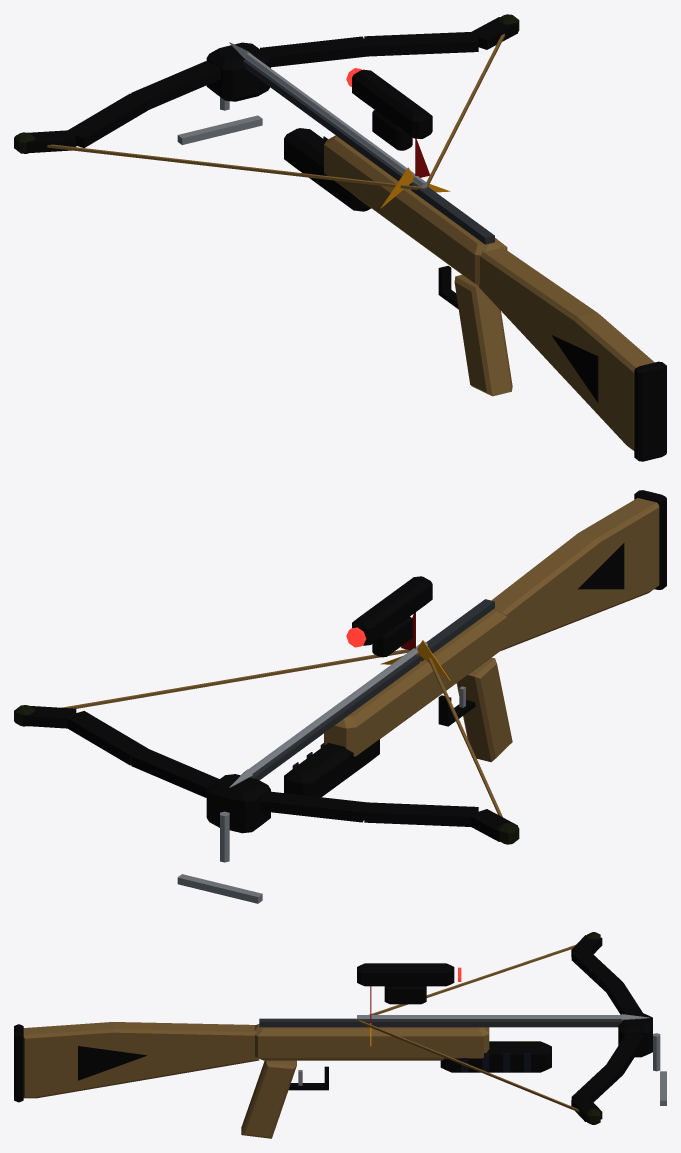
File: SM_Wep_Crossbow.glb
3 views of the same model, one above another, from view 1: azimuth 30°, elevation 25°; view 2: azimuth 150°, elevation 25°; view 3: azimuth 270°, elevation 25° (orthographic). The views are drawn at different scales.
Parts seen in each view (by area): view 1: SM_Wep_Crossbow, SM_Wep_Crossbow_Bolt; view 2: SM_Wep_Crossbow, SM_Wep_Crossbow_Bolt; view 3: SM_Wep_Crossbow, SM_Wep_Crossbow_Bolt.
Boxes of the visible parts, x1,y1,x2,y2 form: SM_Wep_Crossbow: (14, 14, 666, 461); SM_Wep_Crossbow_Bolt: (229, 42, 450, 208); SM_Wep_Crossbow: (14, 490, 666, 903); SM_Wep_Crossbow_Bolt: (229, 612, 450, 787); SM_Wep_Crossbow: (14, 932, 666, 1138); SM_Wep_Crossbow_Bolt: (357, 986, 649, 1046).
Bounding box in the file's own units: 0.62 × 0.269 × 0.937.
1 material, 1 textured.
